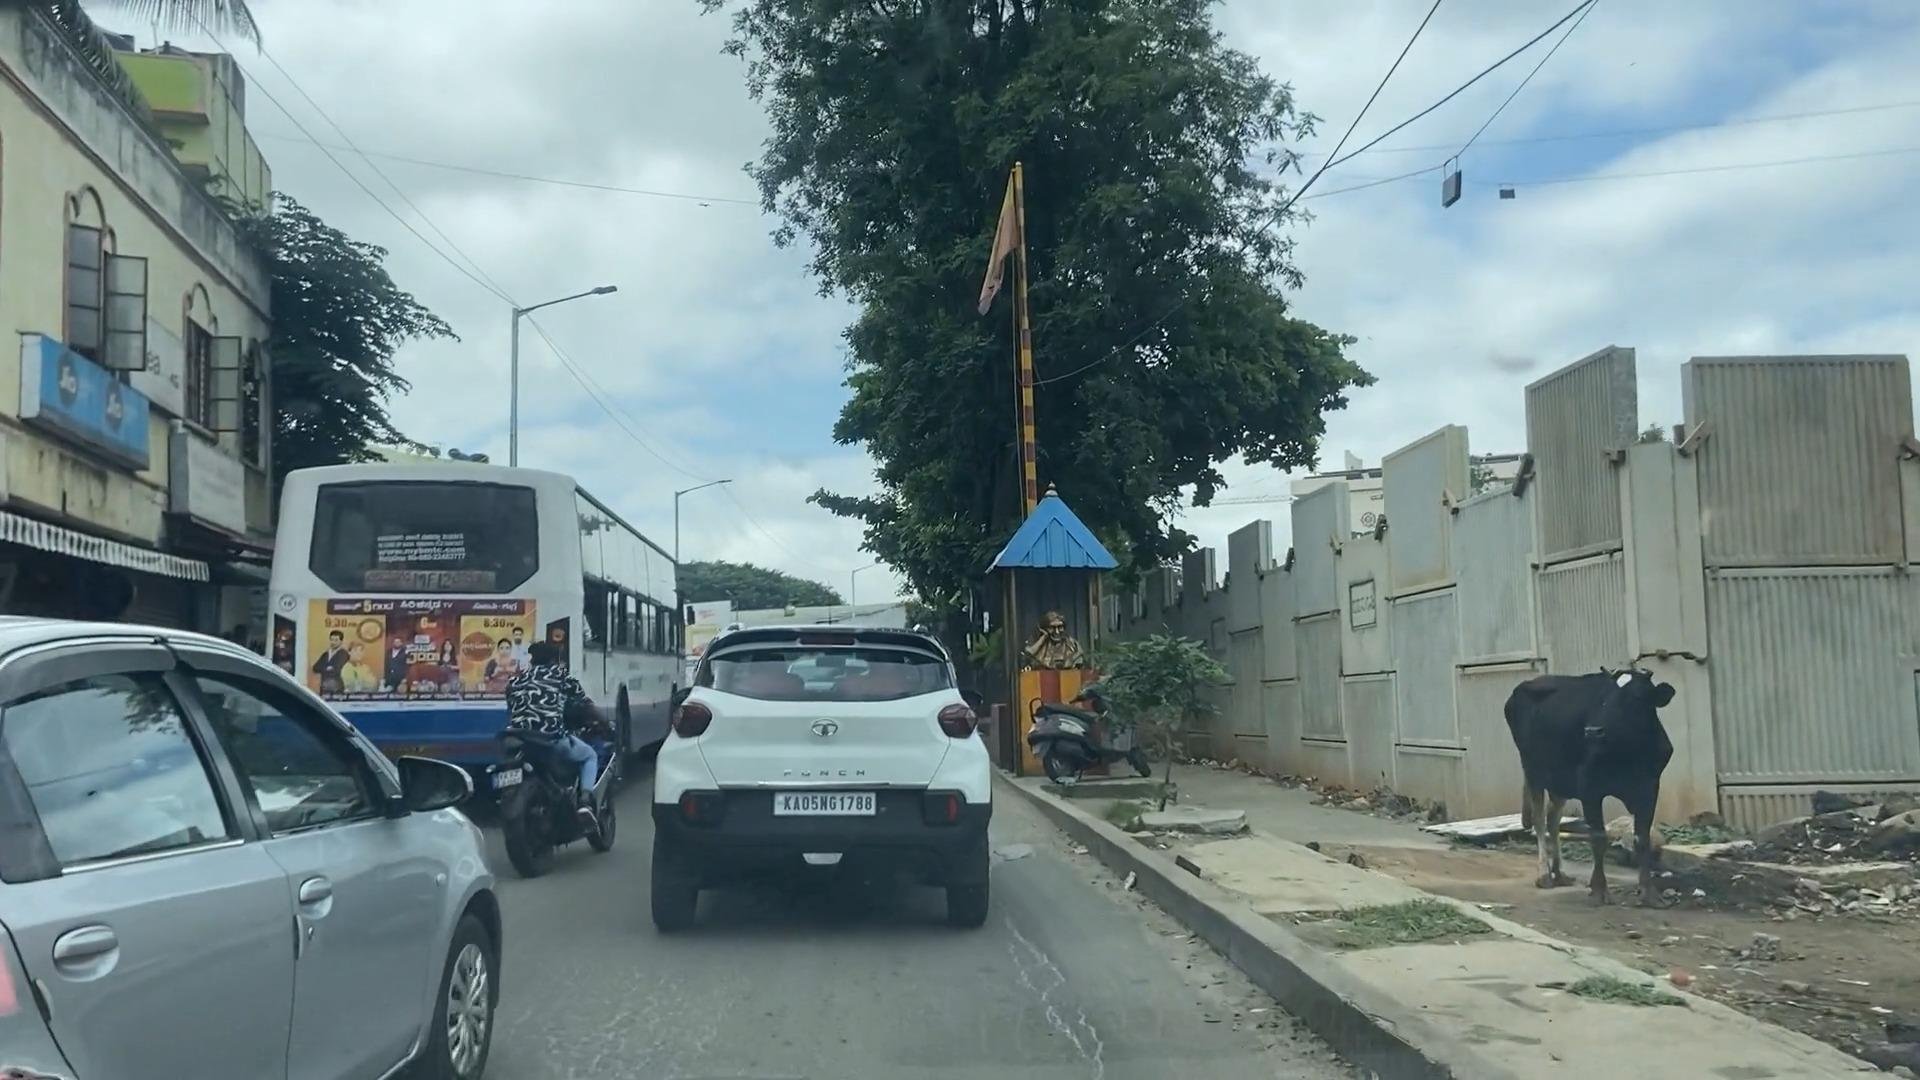HMV: (273, 450, 638, 684)
LMV: (692, 608, 1010, 943), (513, 640, 603, 886)
